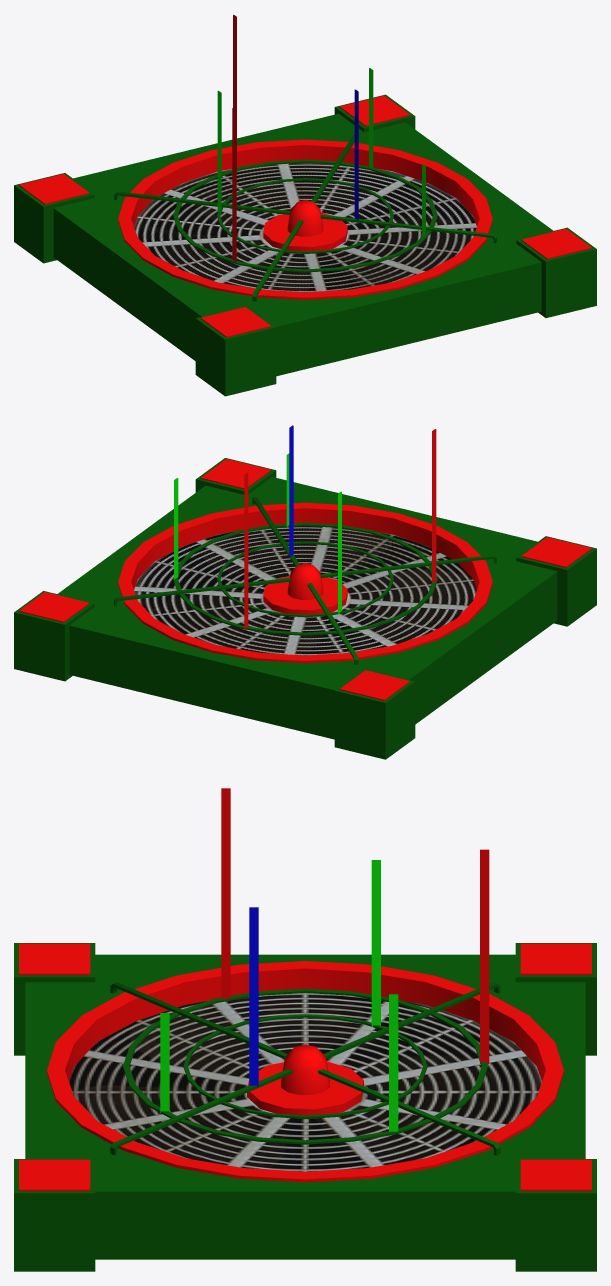
The model's file is Vent_Large.FBX.
3 views of the same model, one above another, from view 1: azimuth 30°, elevation 25°; view 2: azimuth 150°, elevation 25°; view 3: azimuth 270°, elevation 25° (orthographic). The views are drawn at different scales.
Parts seen in each view (by area): view 1: Vent_Large, Box006; view 2: Vent_Large, Box006; view 3: Vent_Large, Box006.
Part boxes in pixels (left/top/right/bottom): Vent_Large: left=14, top=94, right=596, bottom=396; Box006: left=217, top=15, right=425, bottom=261; Vent_Large: left=14, top=458, right=596, bottom=759; Box006: left=174, top=425, right=436, bottom=629; Vent_Large: left=14, top=943, right=596, bottom=1271; Box006: left=160, top=788, right=489, bottom=1131.
Bounding box in the file's own units: 2.91 × 1.58 × 2.86.
Materials: 4 (1 with a texture image).
